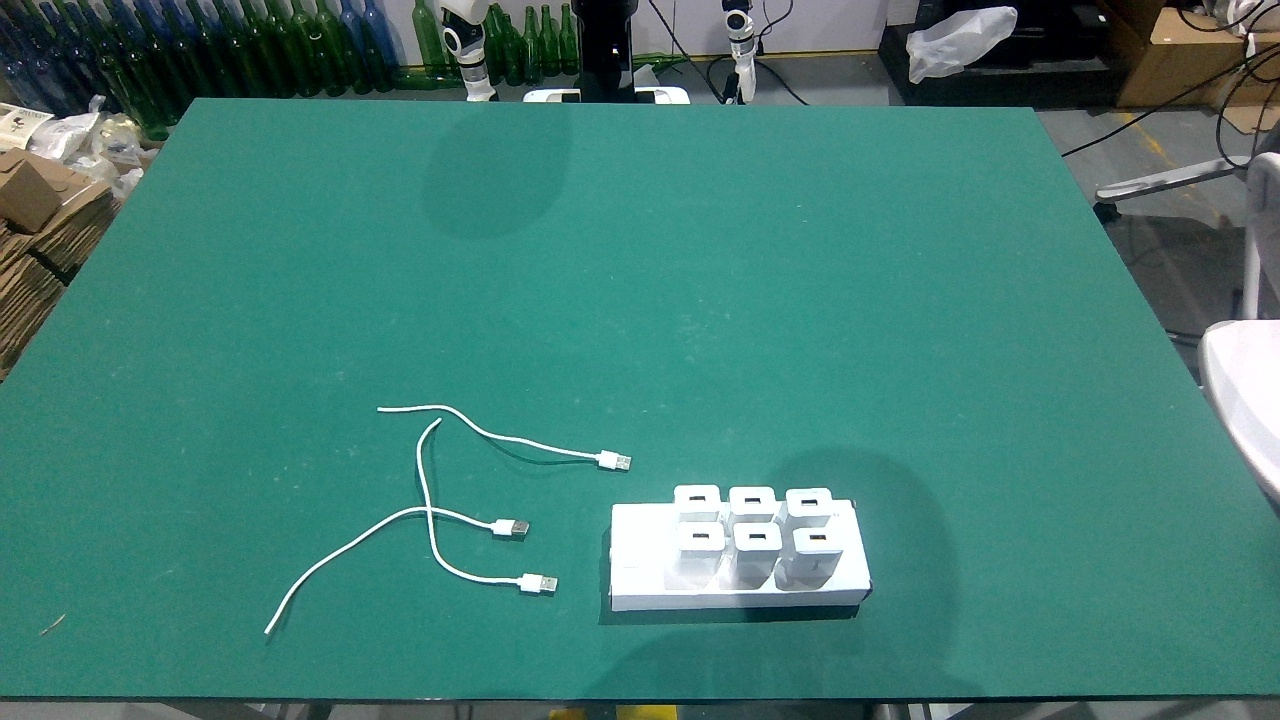usb_a_plug: (580, 446, 634, 473), (508, 572, 557, 594), (479, 519, 528, 537)
